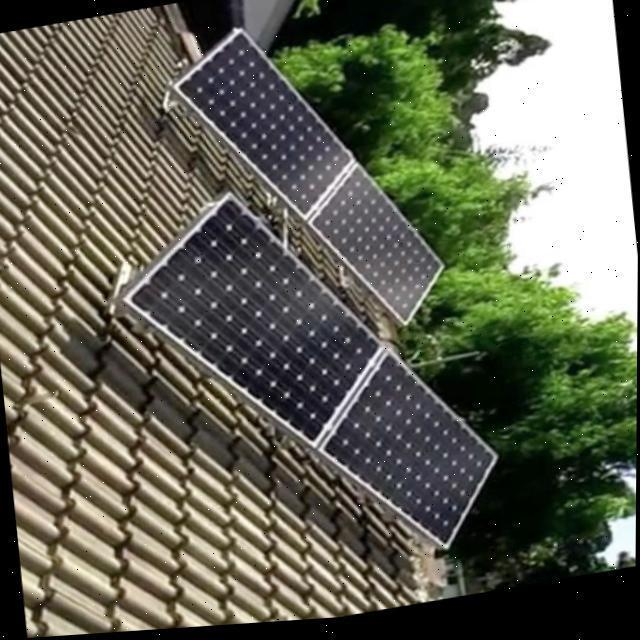Normal Solar Panel: (108, 157, 507, 600), (164, 0, 448, 361)
